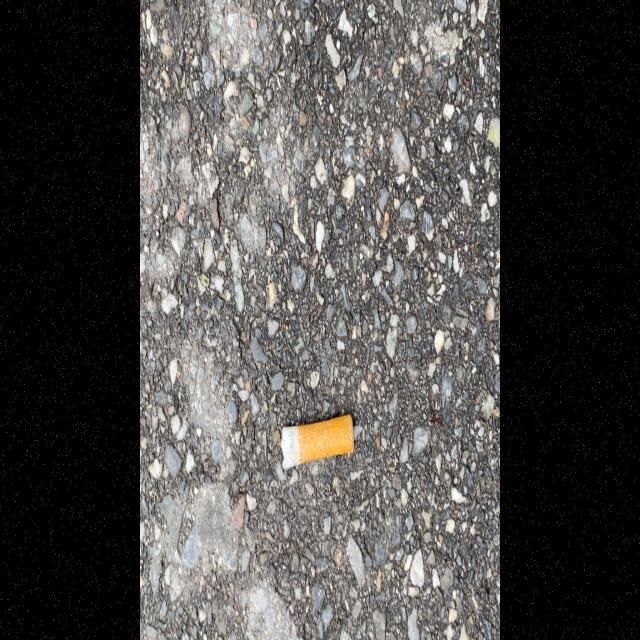other waste: (280, 413, 356, 470)
